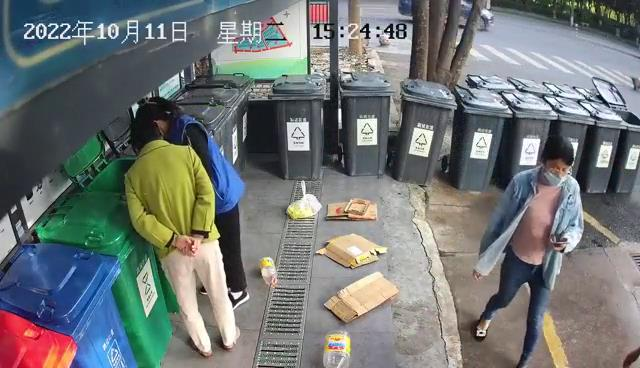garbage-bag: (284, 178, 323, 221)
person: (122, 118, 242, 358)
suliaozhipin: (322, 329, 352, 368), (257, 254, 280, 290)
worker: (472, 134, 586, 368), (134, 95, 250, 313)
zhizhipin: (321, 271, 400, 325), (314, 231, 389, 270), (324, 196, 380, 224)
